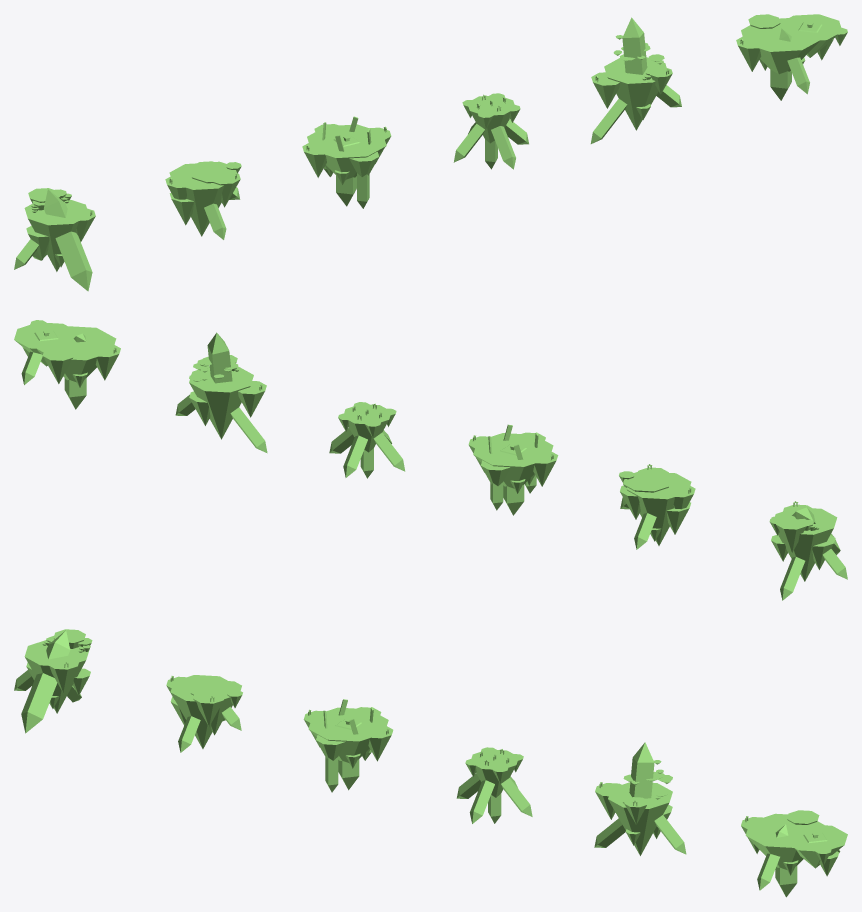
The model's file is Islands.fbx.
3 views of the same model, one above another, from view 1: azimuth 30°, elevation 25°; view 2: azimuth 150°, elevation 25°; view 3: azimuth 330°, elevation 25° (orthographic).
Visible parts, largest first — view 1: island6, island5, island1, island3, island2, island4; view 2: island6, island5, island3, island1, island2, island4; view 3: island6, island5, island1, island3, island2, island4.
Boxes of the visible parts, box(x1,y1,x2,y2) form: island6: box(736, 14, 847, 100); island5: box(590, 17, 681, 143); island1: box(14, 188, 95, 291); island3: box(302, 116, 391, 208); island2: box(165, 161, 241, 239); island4: box(453, 93, 528, 169); island6: box(14, 320, 120, 409); island5: box(175, 332, 267, 453); island3: box(468, 424, 558, 515); island1: box(769, 501, 847, 600); island2: box(619, 464, 695, 549); island4: box(329, 402, 405, 478); island6: box(741, 810, 847, 897); island5: box(594, 742, 686, 855); island1: box(14, 629, 92, 733); island3: box(303, 699, 393, 792); island2: box(166, 675, 242, 752); island4: box(456, 747, 532, 823).
Size of the model in its own units: 70970 by 9525 by 8429.
